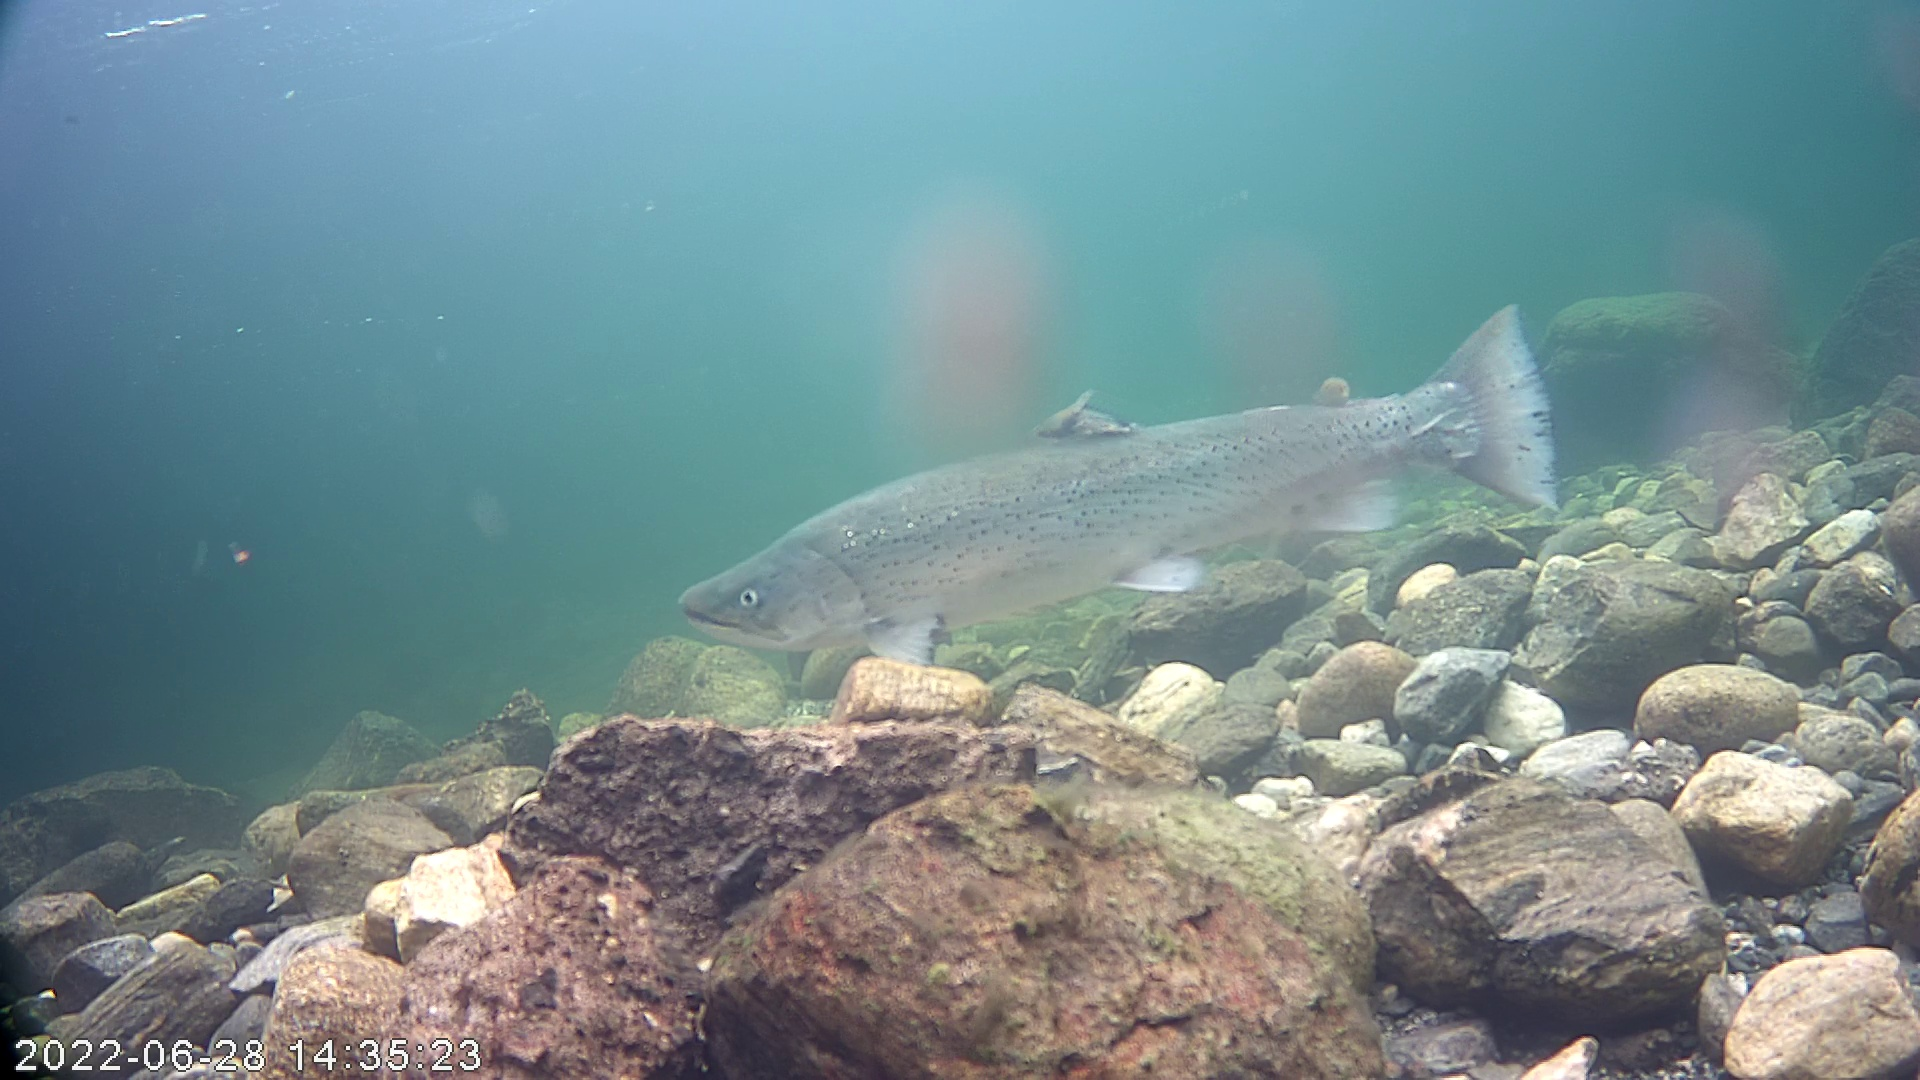salmon: (676, 229, 1600, 673)
